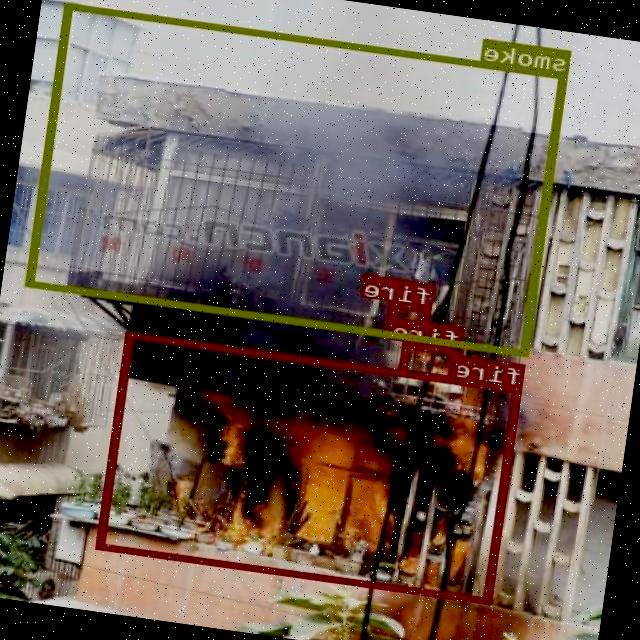fire: (99, 331, 524, 604), (401, 341, 462, 382), (388, 300, 434, 336)
smoke: (27, 1, 571, 356)
